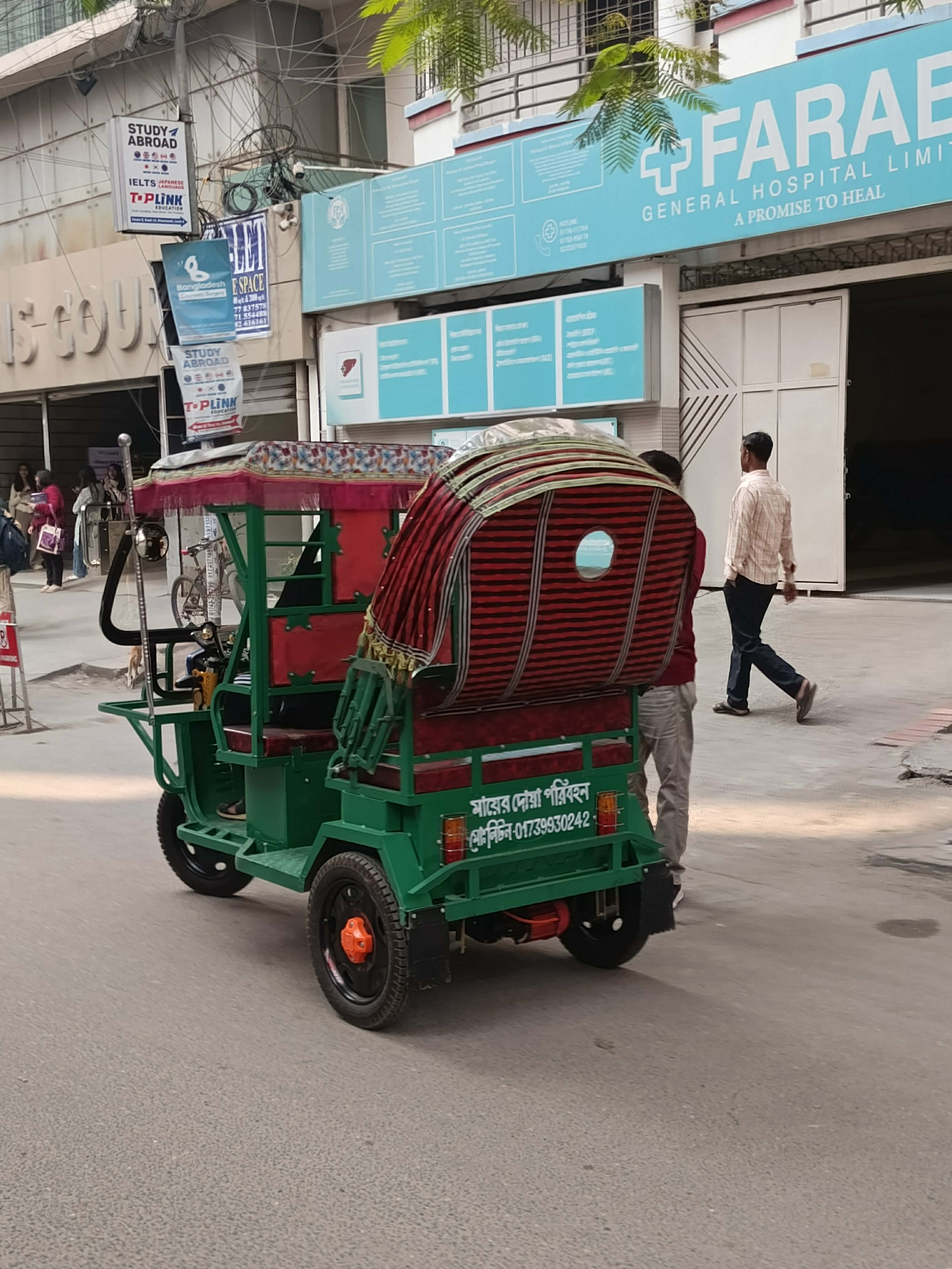auto-ricksaw: (62, 385, 750, 1035)
